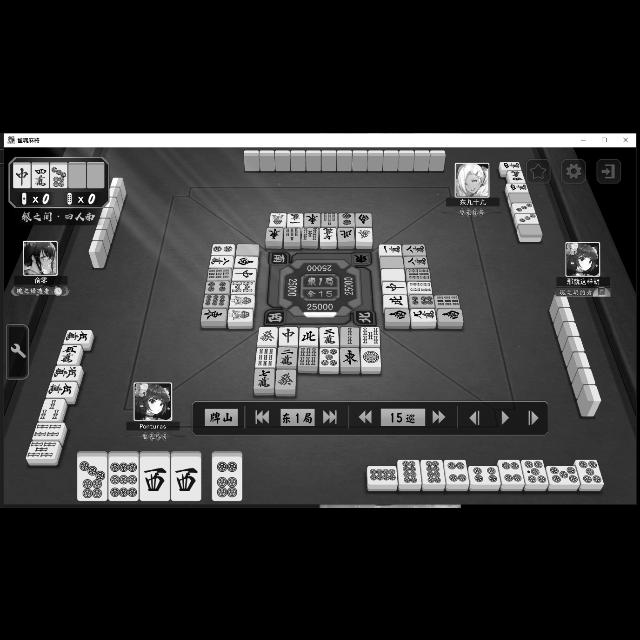1m: (286, 208, 304, 228), (379, 243, 403, 255)
1p: (361, 349, 381, 367)
1s: (228, 294, 256, 308), (228, 310, 252, 322), (270, 210, 288, 226)
2m: (278, 347, 298, 368)
2p: (212, 241, 236, 255), (338, 210, 356, 227)
2s: (340, 324, 360, 348)
3m: (320, 326, 338, 346)
3p: (516, 212, 538, 224), (511, 202, 537, 212)
3s: (37, 396, 64, 422)
4m: (32, 160, 48, 188), (505, 183, 531, 193), (502, 158, 522, 170), (508, 170, 524, 182)
4p: (445, 458, 469, 489), (469, 465, 499, 487), (499, 460, 523, 484), (204, 280, 230, 294)
4s: (30, 420, 66, 440), (407, 282, 433, 294)
5m: (56, 342, 80, 364), (46, 381, 76, 397), (52, 364, 82, 380), (64, 327, 92, 343)
5p: (576, 458, 604, 486), (546, 464, 580, 486), (523, 458, 547, 486), (320, 346, 338, 368)
5s: (24, 440, 60, 458), (360, 326, 380, 346), (301, 222, 317, 244)
6p: (212, 456, 242, 500), (410, 294, 436, 306)
6s: (298, 345, 318, 367), (408, 268, 432, 280)
7m: (254, 369, 274, 389), (320, 226, 338, 244)
7p: (76, 456, 108, 502), (51, 160, 67, 188)
7s: (282, 225, 304, 248), (320, 205, 340, 229)
8m: (208, 255, 236, 268), (404, 243, 426, 254), (405, 256, 429, 266)
8p: (398, 458, 424, 490), (368, 464, 398, 488), (422, 458, 444, 490)
8s: (230, 280, 256, 294)
9m: (413, 310, 435, 320)
9p: (108, 456, 140, 502), (203, 293, 227, 309)
9s: (256, 346, 274, 368), (207, 267, 233, 281), (436, 294, 460, 308)
chun: (12, 162, 30, 188), (279, 326, 297, 346), (233, 268, 257, 280), (384, 282, 406, 294)
haku: (258, 325, 278, 347), (276, 369, 296, 389), (381, 269, 407, 281), (379, 256, 405, 268), (238, 242, 258, 255)
hatsu: (356, 224, 376, 246)
nan: (436, 308, 464, 322), (356, 208, 374, 226), (385, 308, 411, 320), (236, 256, 260, 268)
pe: (300, 326, 318, 346), (384, 294, 408, 306), (340, 226, 356, 242)
sha: (172, 455, 202, 501), (140, 456, 170, 500)
tou: (342, 348, 361, 367), (302, 207, 322, 225), (266, 226, 284, 244), (201, 308, 227, 320)
